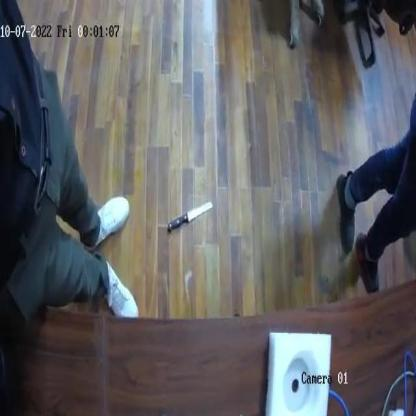Knife: (166, 199, 214, 239)
